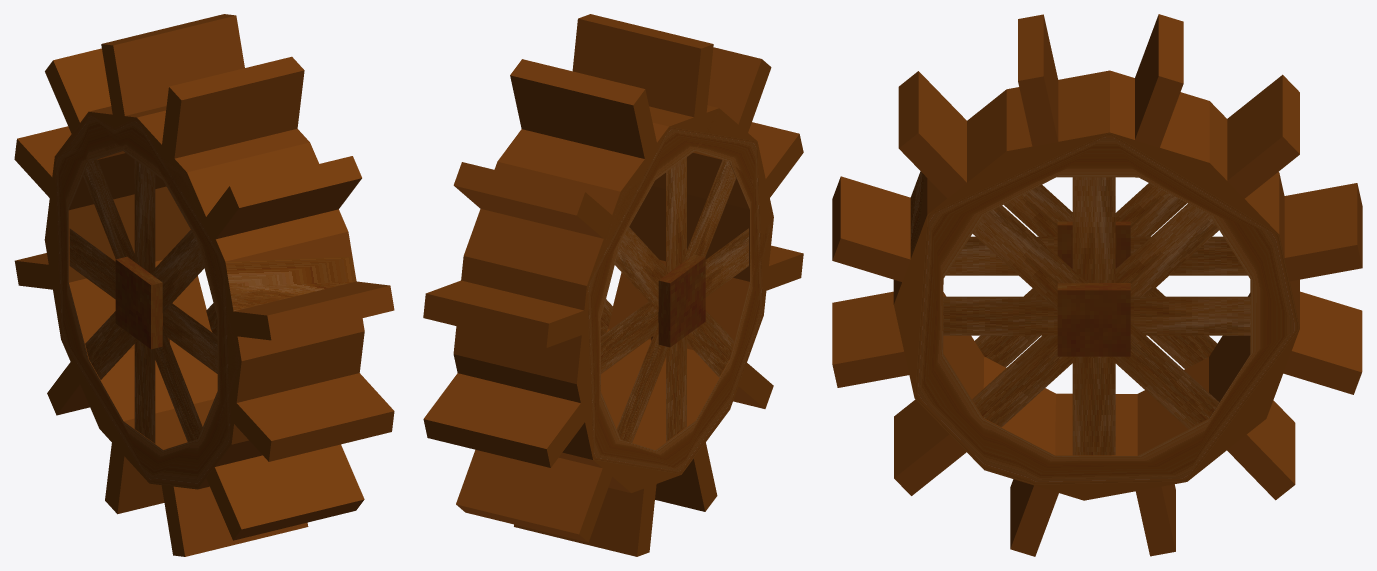
Rendered from Waterwheel.glb.
3 renders of one model, left to right at view 1: azimuth 30°, elevation 25°; view 2: azimuth 150°, elevation 25°; view 3: azimuth 270°, elevation 25°, orthographic. The views are drawn at different scales.
Parts seen in each view (by area): view 1: Cube, Plane.001, Plane.002, Plane.003, Cube.002; view 2: Cube, Plane.001, Plane.003, Plane.002, Cube.002; view 3: Cube, Plane.004, Plane.007, Plane.005, Plane.006, Cube.001, Plane.001, Plane.003, Plane.002, Cube.002.
Boxes of the visible parts, left/top/right/bottom form: Cube: left=14, top=14, right=394, bottom=556; Plane.001: left=69, top=160, right=217, bottom=443; Plane.002: left=83, top=159, right=202, bottom=441; Plane.003: left=85, top=230, right=204, bottom=379; Cube.002: left=115, top=256, right=169, bottom=349; Cube: left=423, top=14, right=803, bottom=556; Plane.001: left=600, top=157, right=748, bottom=441; Plane.003: left=616, top=159, right=736, bottom=442; Plane.002: left=615, top=227, right=734, bottom=377; Cube.002: left=651, top=254, right=705, bottom=347; Cube: left=832, top=14, right=1362, bottom=556; Plane.004: left=943, top=296, right=1250, bottom=335; Plane.007: left=972, top=205, right=1219, bottom=428; Plane.005: left=1072, top=177, right=1115, bottom=455; Plane.006: left=972, top=203, right=1218, bottom=427; Cube.001: left=1057, top=283, right=1130, bottom=356; Plane.001: left=946, top=236, right=1247, bottom=275; Plane.003: left=1004, top=185, right=1217, bottom=369; Plane.002: left=974, top=183, right=1186, bottom=367; Cube.002: left=1057, top=221, right=1130, bottom=268.
Size of the model in its own units: 1.2 by 3.62 by 3.62.
Materials: 3 (3 with a texture image).
